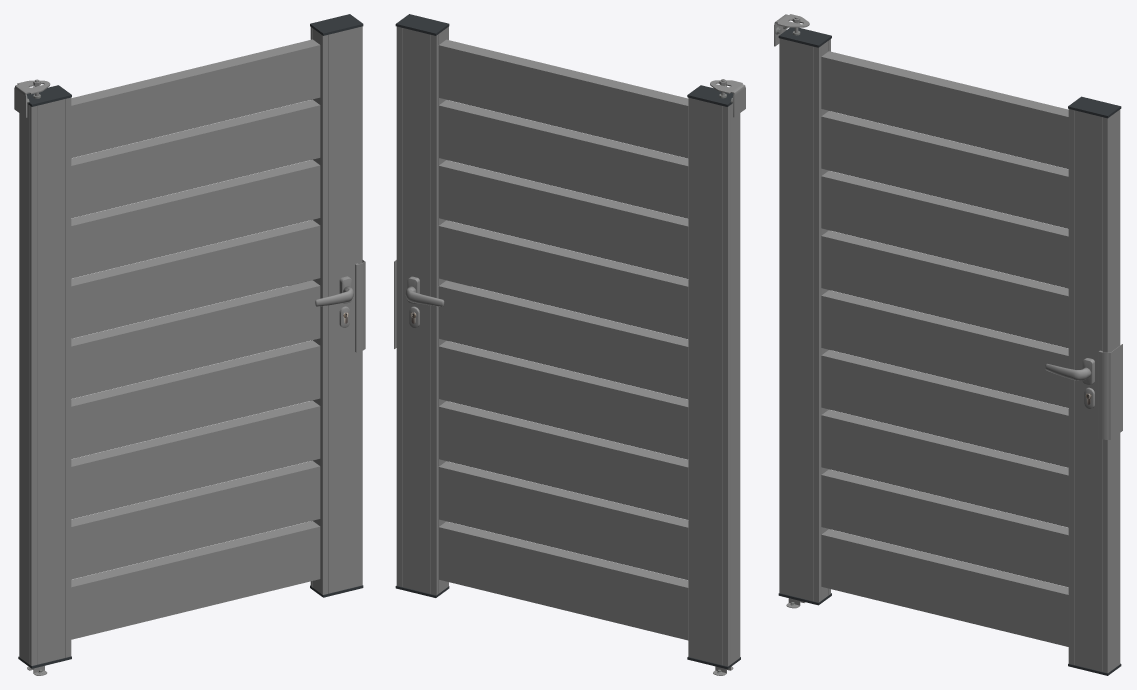
3 views of the same model, side by side, from view 1: azimuth 30°, elevation 25°; view 2: azimuth 150°, elevation 25°; view 3: azimuth 330°, elevation 25° (orthographic).
Visible parts, largest first — view 1: Shape107412643, Shape107412644, Shape206, Shape200, Shape201, Shape202, Shape203, Shape205, Shape207, Shape208, Shape204, Shape107412637 (+3 smaller); view 2: Shape107412643, Shape107412644, Shape200, Shape203, Shape208, Shape202, Shape207, Shape201, Shape205, Shape206, Shape204, Box2403 (+2 smaller); view 3: Shape107412644, Shape107412643, Shape201, Shape202, Shape205, Shape200, Shape206, Shape208, Shape203, Shape207, Shape204, Shape107412637 (+2 smaller).
Part boxes in pixels (left/top/right/bottom): Shape107412643: left=19, top=97, right=71, bottom=665; Shape107412644: left=310, top=26, right=362, bottom=594; Shape206: left=71, top=159, right=320, bottom=278; Shape200: left=71, top=521, right=320, bottom=639; Shape201: left=71, top=460, right=320, bottom=579; Shape202: left=71, top=400, right=320, bottom=519; Shape203: left=71, top=340, right=320, bottom=458; Shape205: left=71, top=220, right=320, bottom=338; Shape207: left=71, top=99, right=320, bottom=218; Shape208: left=71, top=39, right=320, bottom=158; Shape204: left=71, top=280, right=320, bottom=398; Shape107412637: left=355, top=260, right=365, bottom=352; Shape107412643: left=688, top=97, right=740, bottom=666; Shape107412644: left=396, top=26, right=448, bottom=595; Shape200: left=438, top=521, right=688, bottom=640; Shape203: left=438, top=340, right=688, bottom=459; Shape208: left=438, top=39, right=688, bottom=158; Shape202: left=438, top=401, right=688, bottom=519; Shape207: left=438, top=100, right=688, bottom=218; Shape201: left=438, top=461, right=688, bottom=579; Shape205: left=438, top=220, right=688, bottom=338; Shape206: left=438, top=160, right=688, bottom=278; Shape204: left=438, top=280, right=688, bottom=399; Box2403: left=395, top=14, right=449, bottom=35; Shape107412644: left=1068, top=109, right=1120, bottom=672; Shape107412643: left=779, top=38, right=830, bottom=602; Shape201: left=821, top=469, right=1068, bottom=587; Shape202: left=821, top=409, right=1068, bottom=527; Shape205: left=821, top=230, right=1068, bottom=348; Shape200: left=821, top=529, right=1068, bottom=646; Shape206: left=821, top=170, right=1068, bottom=288; Shape208: left=821, top=51, right=1068, bottom=168; Shape203: left=821, top=350, right=1068, bottom=467; Shape207: left=821, top=111, right=1068, bottom=228; Shape204: left=821, top=290, right=1068, bottom=407; Shape107412637: left=1098, top=344, right=1122, bottom=439.
Size of the model in its own units: 1014 by 1688 by 171.
8 materials, 4 textured.
